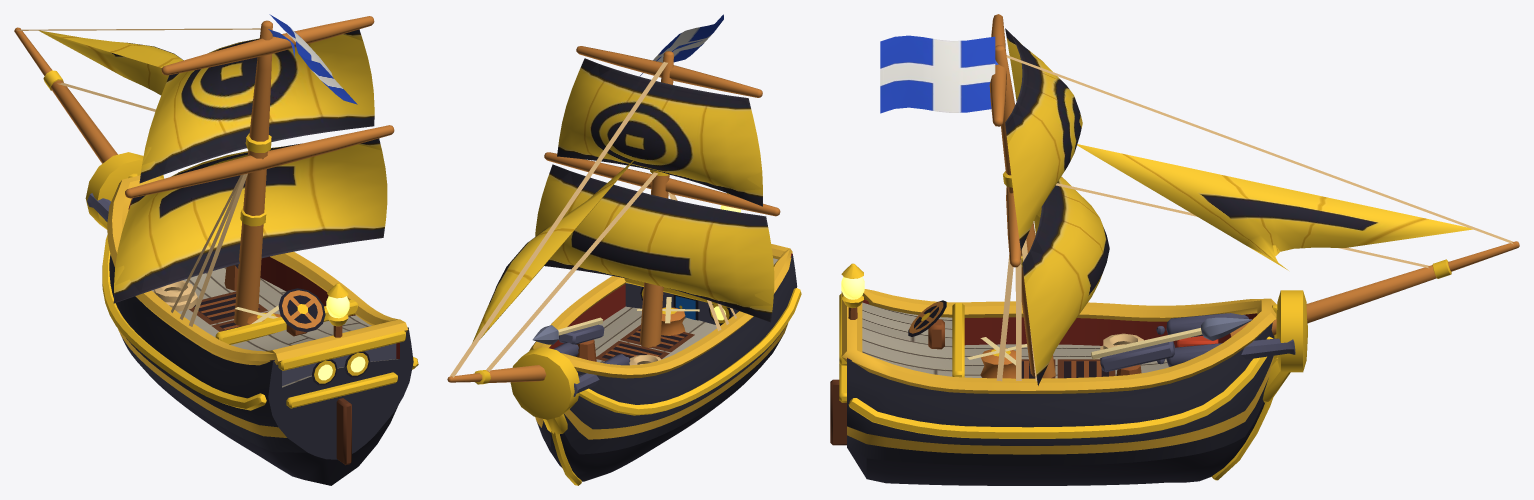
Rendered from enemy_chaser.glb.
3 views of the same model, side by side, from view 1: azimuth 30°, elevation 25°; view 2: azimuth 150°, elevation 25°; view 3: azimuth 270°, elevation 25° (orthographic). The views are drawn at different scales.
Parts seen in each view (by area): view 1: Hull, Sail0_0, Sail0_1, Rigging, Jib, Flag; view 2: Hull, Sail0_0, Sail0_1, Rigging, Jib, Flag, Guns0; view 3: Hull, Jib, Rigging, Sail0_0, Sail0_1, Flag, Guns0.
Part boxes in pixels (<box>): Hull: <box>85,152,418,485</box>; Sail0_0: <box>113,138,387,303</box>; Sail0_1: <box>139,29,374,183</box>; Rigging: <box>14,16,394,326</box>; Jib: <box>39,30,183,95</box>; Flag: <box>269,14,357,104</box>; Hull: <box>510,193,801,485</box>; Sail0_0: <box>535,164,774,322</box>; Sail0_1: <box>557,58,762,206</box>; Rigging: <box>447,40,780,384</box>; Jib: <box>472,157,636,342</box>; Flag: <box>639,14,723,76</box>; Guns0: <box>553,342,630,396</box>; Hull: <box>830,263,1307,485</box>; Jib: <box>1077,144,1472,270</box>; Rigging: <box>989,14,1519,381</box>; Sail0_0: <box>1022,176,1109,385</box>; Sail0_1: <box>1005,28,1082,250</box>; Flag: <box>880,35,995,113</box>; Guns0: <box>1156,313,1295,366</box>.
Bounding box in the file's own units: 1.19 × 1.8 × 2.51.
9 materials, 4 textured.
